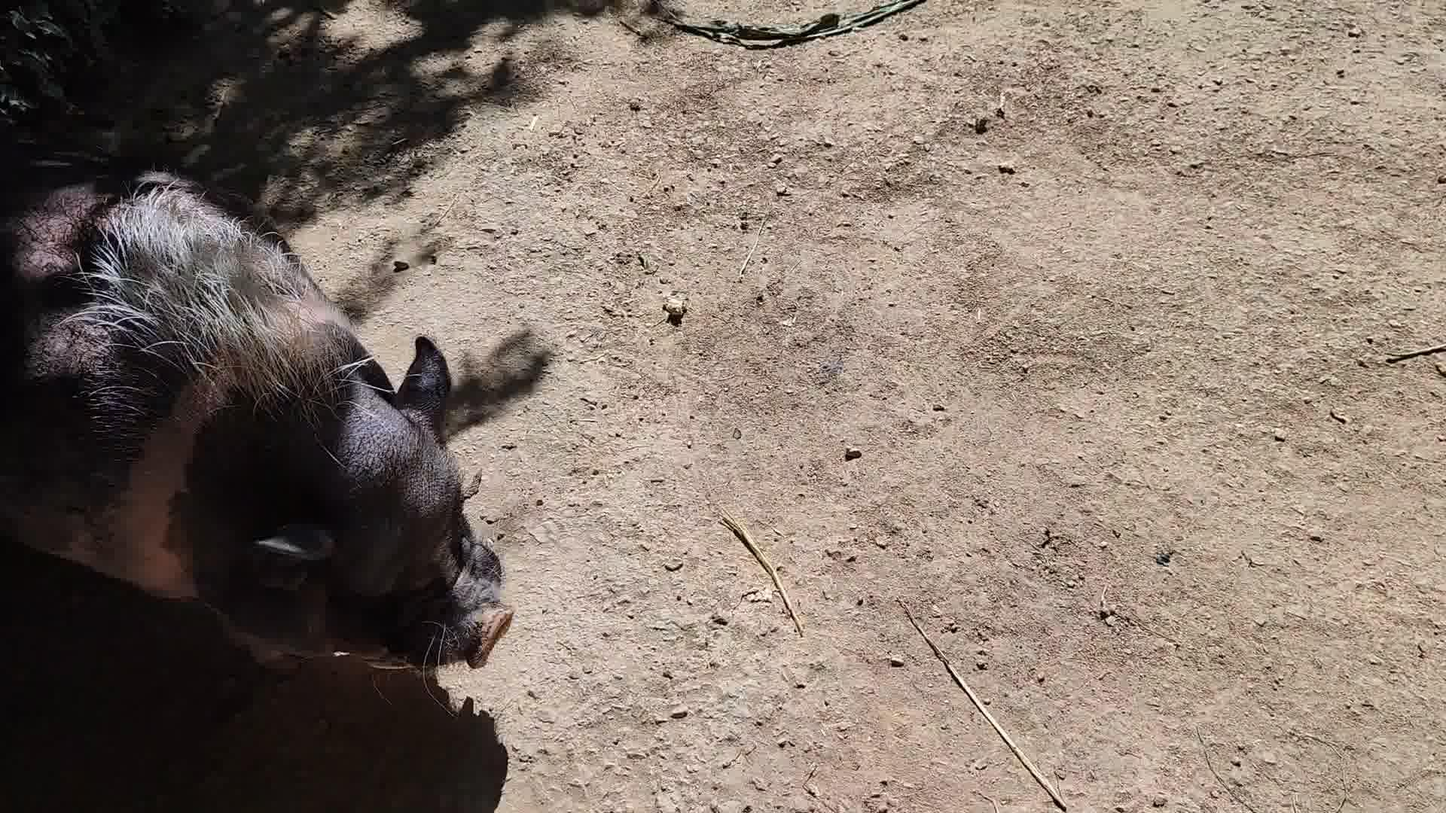bear: (0, 137, 515, 682)
